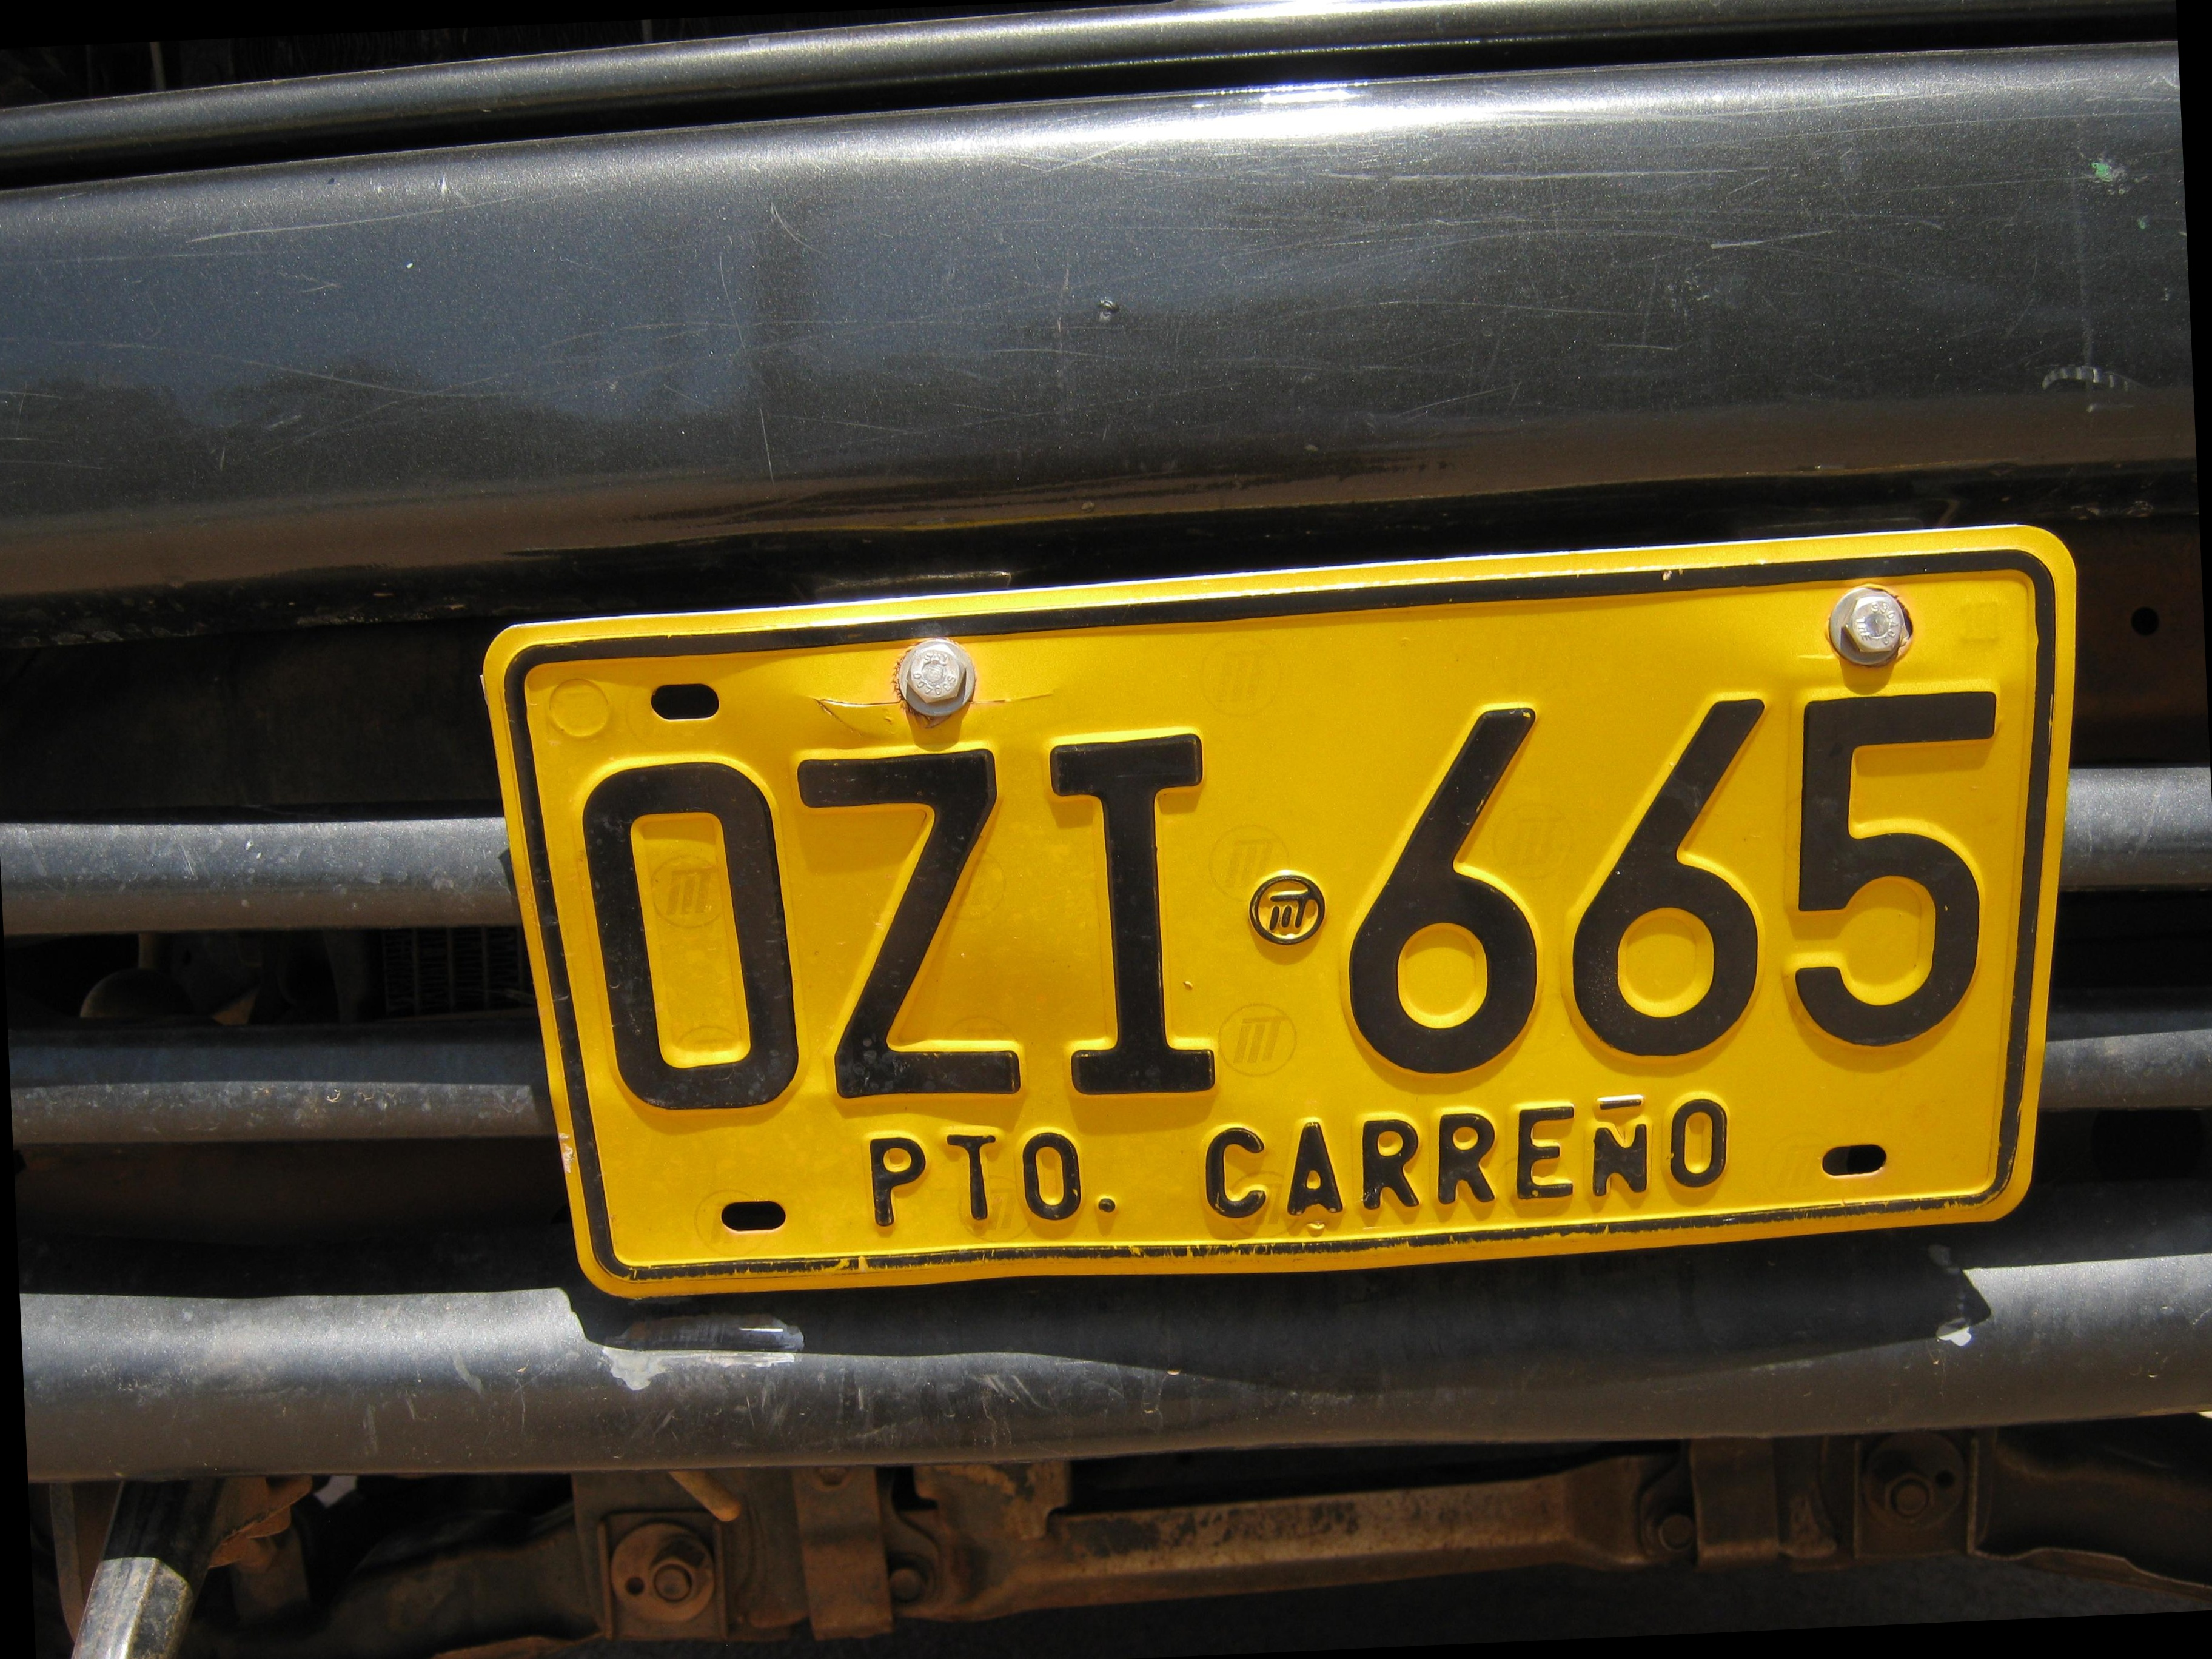placas: (472, 512, 2117, 1316)
